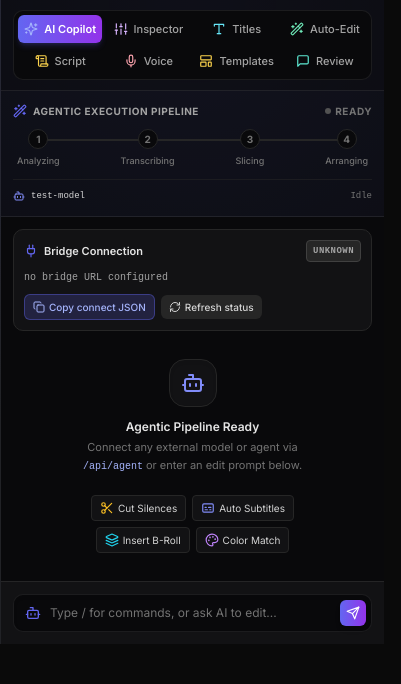
Scenario: R24.4 — TitlesPanel › mounts as the Titles tab in the copilot console
The width and height of the screenshot is (401, 684).
Click the button "Titles".
click(237, 29)  # box top-left (194, 15), bottom-right (279, 43)
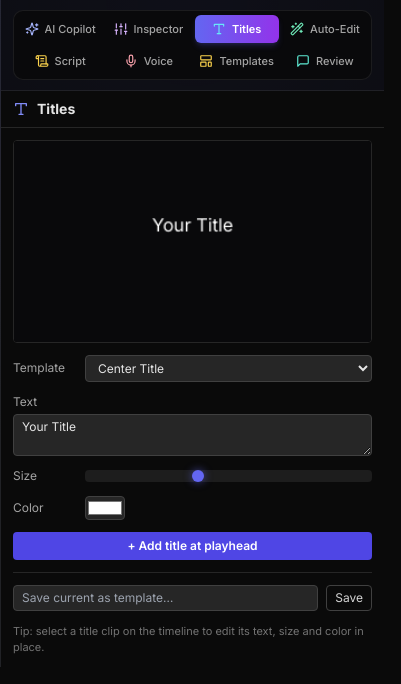
Check: the dropdown named "Title template" is shown, box top-left (85, 355), bottom-right (372, 382)
Check: the button "+ Add title at playhead" is shown, box top-left (13, 532), bottom-right (372, 560)
